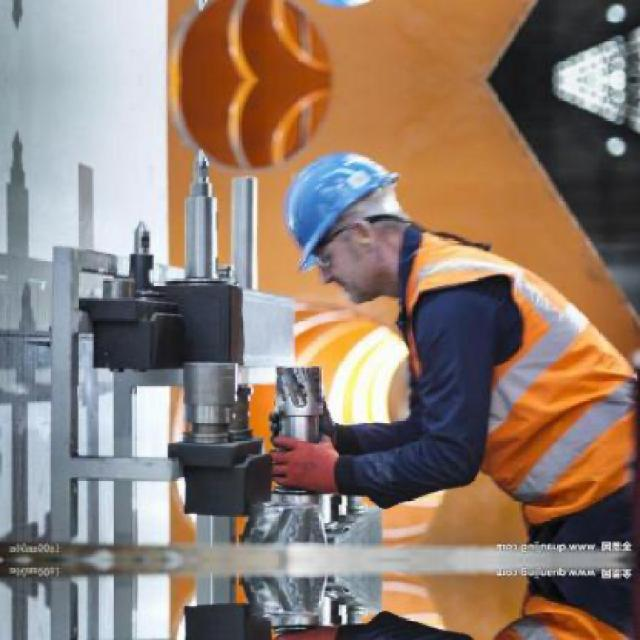helmet: (271, 132, 426, 312)
